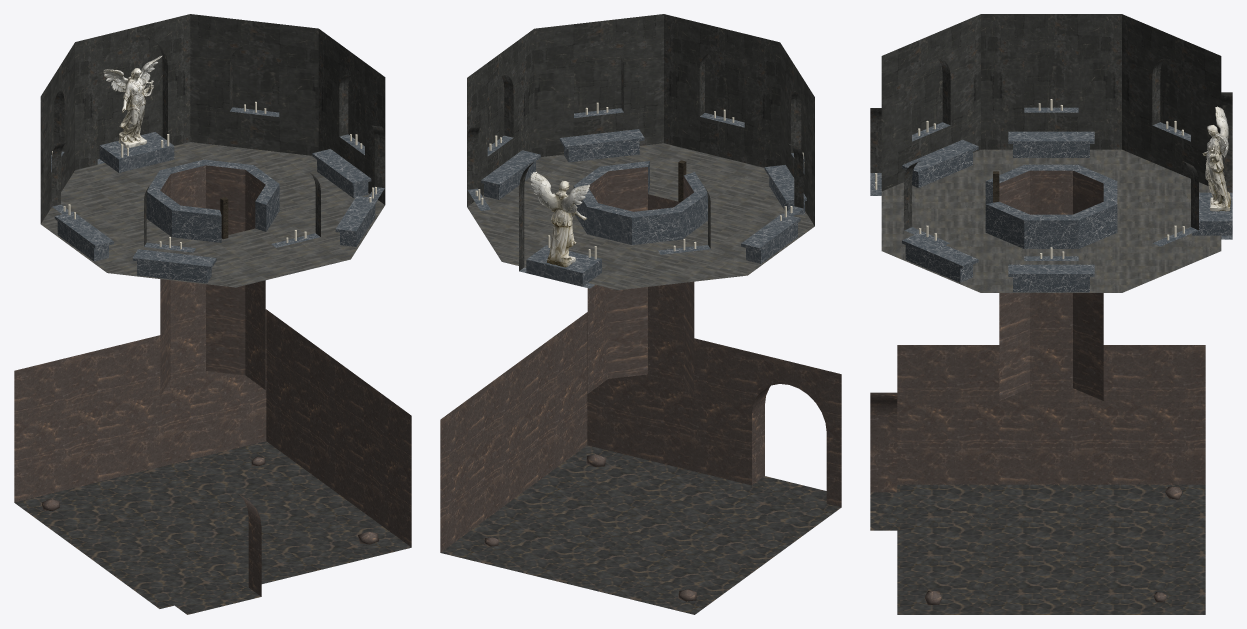
Rendered from angel-well.2f08f97e.gltf.
3 renders of one model, left to right at view 1: azimuth 30°, elevation 25°; view 2: azimuth 150°, elevation 25°; view 3: azimuth 270°, elevation 25°, orthographic. The views are drawn at different scales.
Parts seen in each view (by area): view 1: angel-well-mesh, angel-well-angel; view 2: angel-well-mesh, angel-well-angel; view 3: angel-well-mesh, angel-well-angel.
Part boxes in pixels (box(x1,y1,x2,y2)): angel-well-mesh: box(14, 14, 411, 614); angel-well-angel: box(103, 55, 162, 147); angel-well-mesh: box(440, 14, 841, 614); angel-well-angel: box(530, 171, 589, 267); angel-well-mesh: box(870, 14, 1232, 614); angel-well-angel: box(1202, 106, 1231, 211).
Size of the model in its own units: 8 by 11.93 by 8.
Materials: 8 (7 with a texture image).
